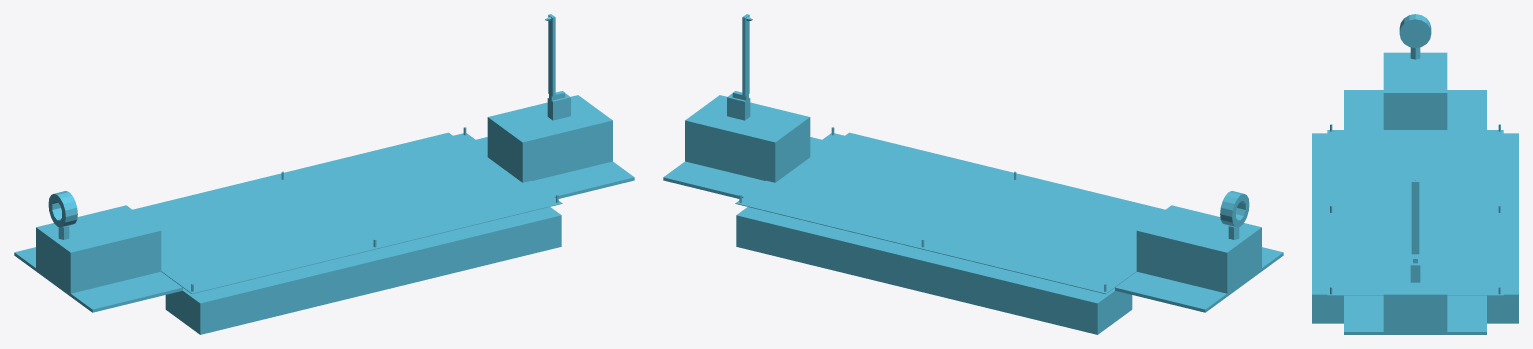
Rendered from amos.fbx.
3 renders of one model, left to right at view 1: azimuth 30°, elevation 25°; view 2: azimuth 150°, elevation 25°; view 3: azimuth 270°, elevation 25°, orthographic. The views are drawn at different scales.
Parts seen in each view (by area): view 1: CatBoat (1); view 2: CatBoat (1); view 3: CatBoat (1).
Part boxes in pixels (bbox=[...]): CatBoat (1): bbox=[14, 14, 634, 334]; CatBoat (1): bbox=[663, 14, 1283, 334]; CatBoat (1): bbox=[1312, 14, 1518, 334].
Bounding box in the file's own units: 18000 × 5650 × 6500.
